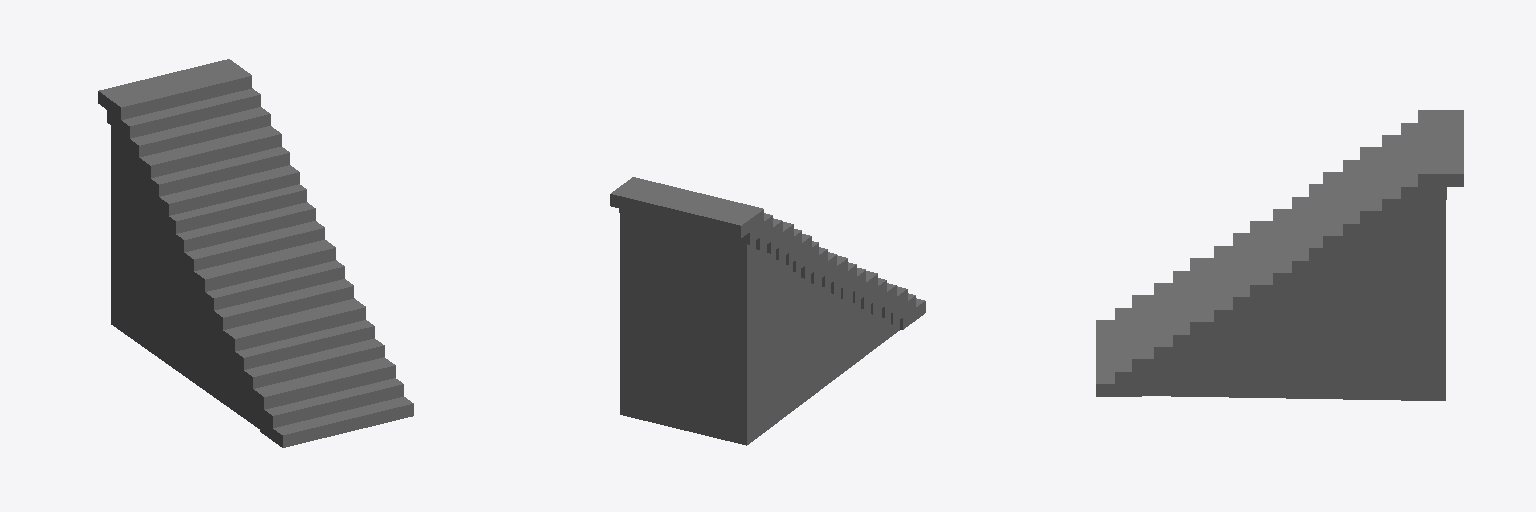
The model's file is stairs.obj.
3 renders of one model, left to right at view 1: azimuth 30°, elevation 25°; view 2: azimuth 150°, elevation 25°; view 3: azimuth 270°, elevation 25°, orthographic.
Visible parts, largest first — view 1: stairs; view 2: stairs; view 3: stairs.
Boxes of the visible parts, <box> form: stairs: <box>98,59,413,447</box>; stairs: <box>610,177,925,445</box>; stairs: <box>1096,110,1463,400</box>.
Bounding box in the file's own units: 10.82 × 17.93 × 26.34.